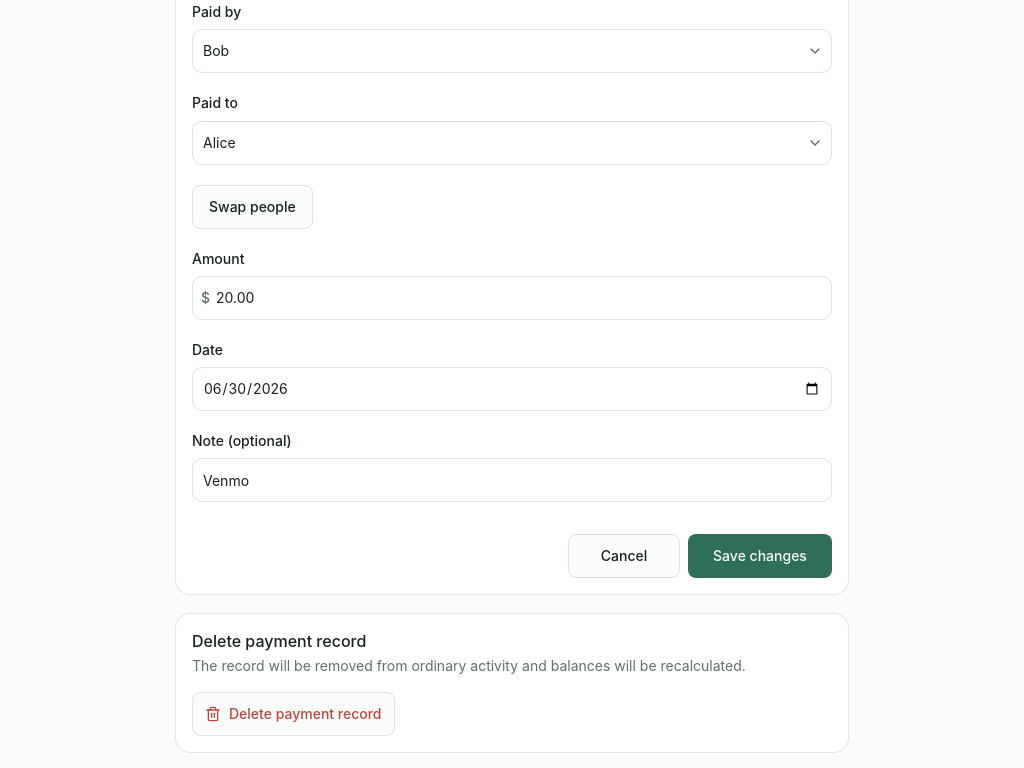
Test: edit payment route › lets the parent boundary own DELETE 404 when group access becomes hidden
(page scrolled)
Check: the field labelled "Amount" is shown, box [210,276,831,320]
Click the button "Delete payment record".
click(293, 714)  # box [192,692,394,736]
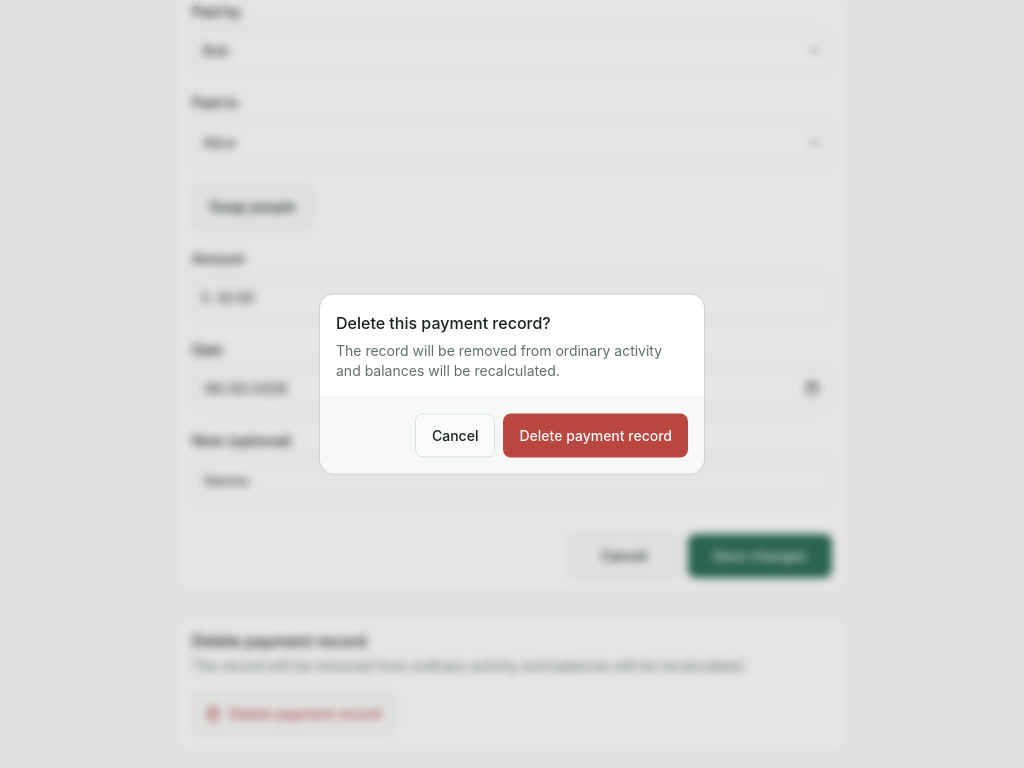
Click the button "Delete payment record".
click(596, 436)  # box [504,414,688,458]
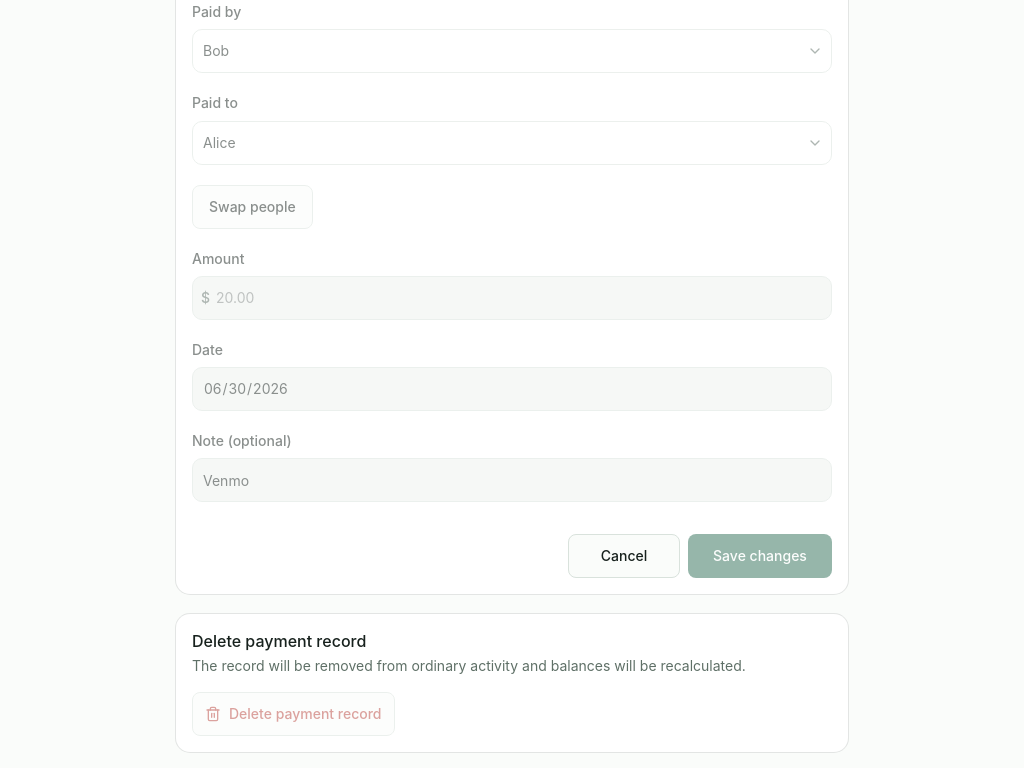
Check: the dialog is gone
